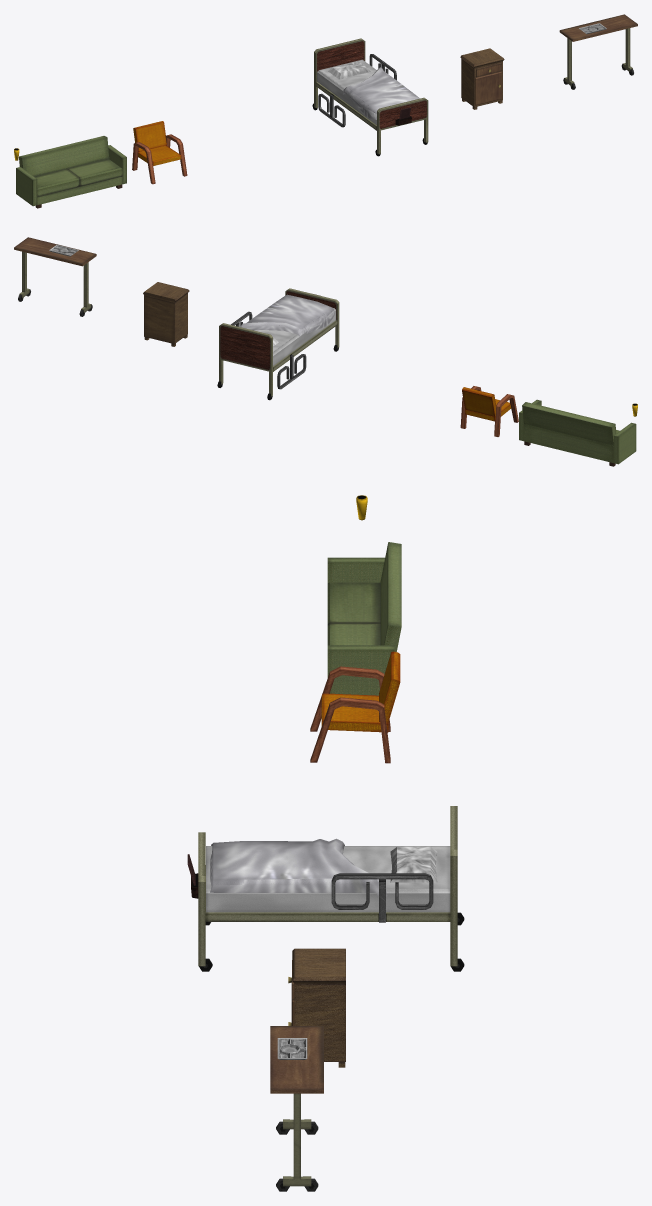
File: set1.FBX
3 views of the same model, one above another, from view 1: azimuth 30°, elevation 25°; view 2: azimuth 150°, elevation 25°; view 3: azimuth 270°, elevation 25° (orthographic). The views are drawn at different scales.
Visible parts, largest first — view 1: Couch001, Bedframe001, Chair001, Blanket001, Eating table001, Nightstand001, mattress001, Object002, Pillow001; view 2: Couch001, Bedframe001, Nightstand001, Blanket001, Eating table001, Chair001, mattress001; view 3: Couch001, Blanket001, Bedframe001, mattress001, Nightstand001, Chair001, Eating table001, Pillow001.
Part boxes in pixels (x1,y1,x2,y2): Couch001: (16,136,126,208); Bedframe001: (312,38,428,156); Chair001: (132,121,187,184); Blanket001: (343,67,419,119); Eating table001: (559,14,637,89); Nightstand001: (460,48,504,109); mattress001: (317,59,376,124); Object002: (475,71,501,105); Pillow001: (328,61,370,79); Couch001: (519,399,636,466); Bedframe001: (217,288,339,400); Nightstand001: (143,282,189,346); Blanket001: (240,294,334,336); Eating table001: (14,237,96,316); Chair001: (460,386,518,436); mattress001: (254,307,335,365); Couch001: (327,542,401,695); Blanket001: (210,838,387,896); Bedframe001: (187,806,464,971); mattress001: (206,846,450,912); Nightstand001: (292,948,345,1067); Chair001: (310,651,400,763); Eating table001: (270,1026,323,1191); Pillow001: (390,846,437,882).
Bounding box in the file's own units: 1426 × 136 × 285.
Materials: 12 (12 with a texture image).
